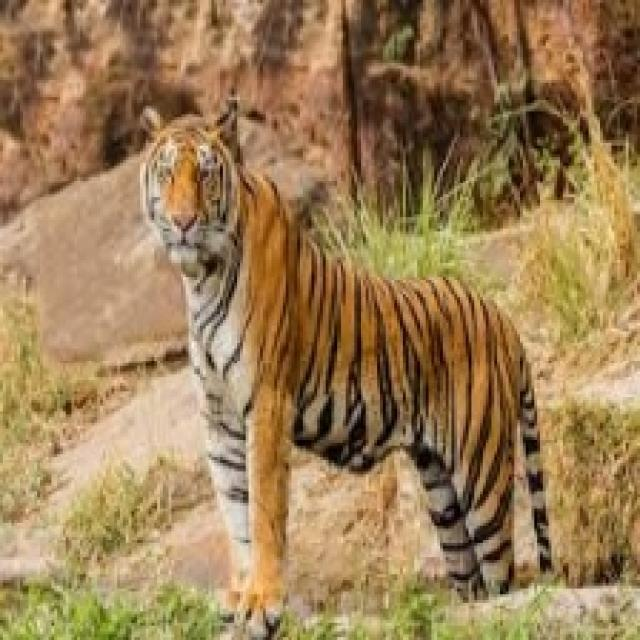animal: (86, 82, 568, 599)
